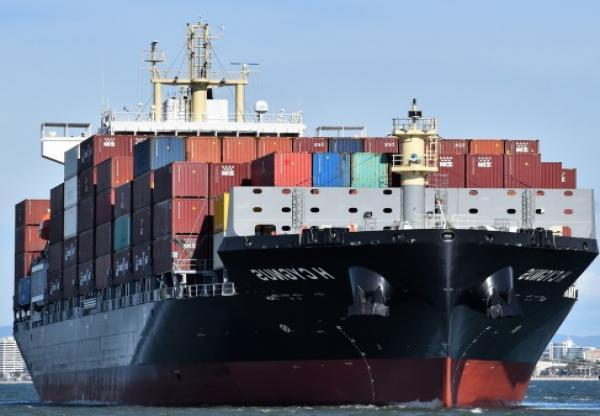Container Ship: (10, 16, 599, 409)
